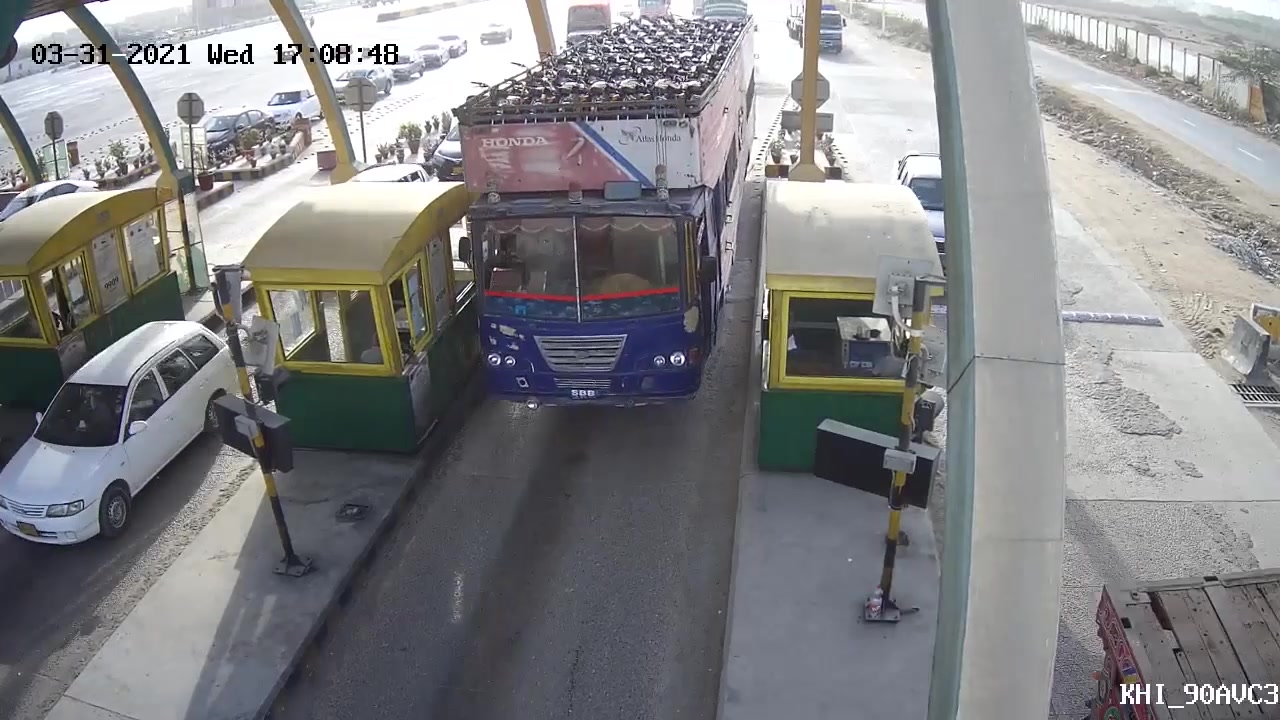F5: (433, 1, 760, 422)
